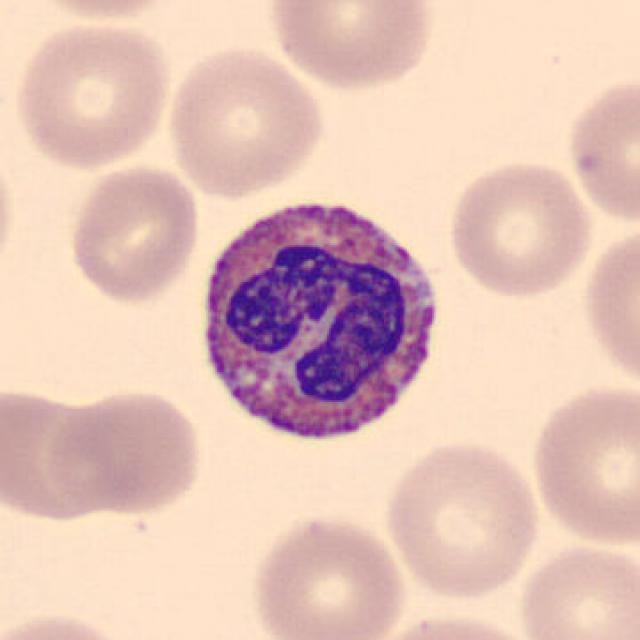Eosinophil: (185, 182, 453, 464)
RBC: (379, 435, 544, 603), (162, 42, 329, 201), (9, 14, 174, 173), (443, 155, 597, 302), (44, 384, 208, 518), (247, 511, 411, 640), (64, 158, 203, 306), (526, 379, 638, 552), (0, 382, 117, 525), (263, 0, 439, 93), (513, 539, 638, 640), (562, 70, 640, 228), (578, 220, 640, 395), (361, 610, 544, 640), (1, 606, 138, 640), (16, 0, 187, 25), (0, 136, 21, 291)
